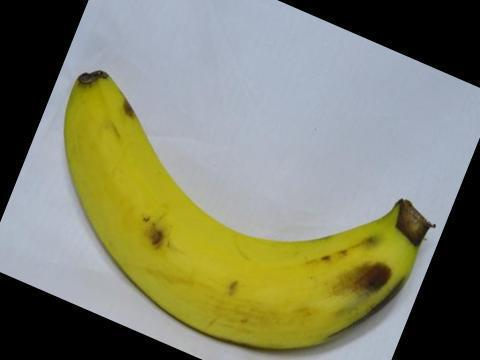freshripe: (44, 59, 456, 359)
